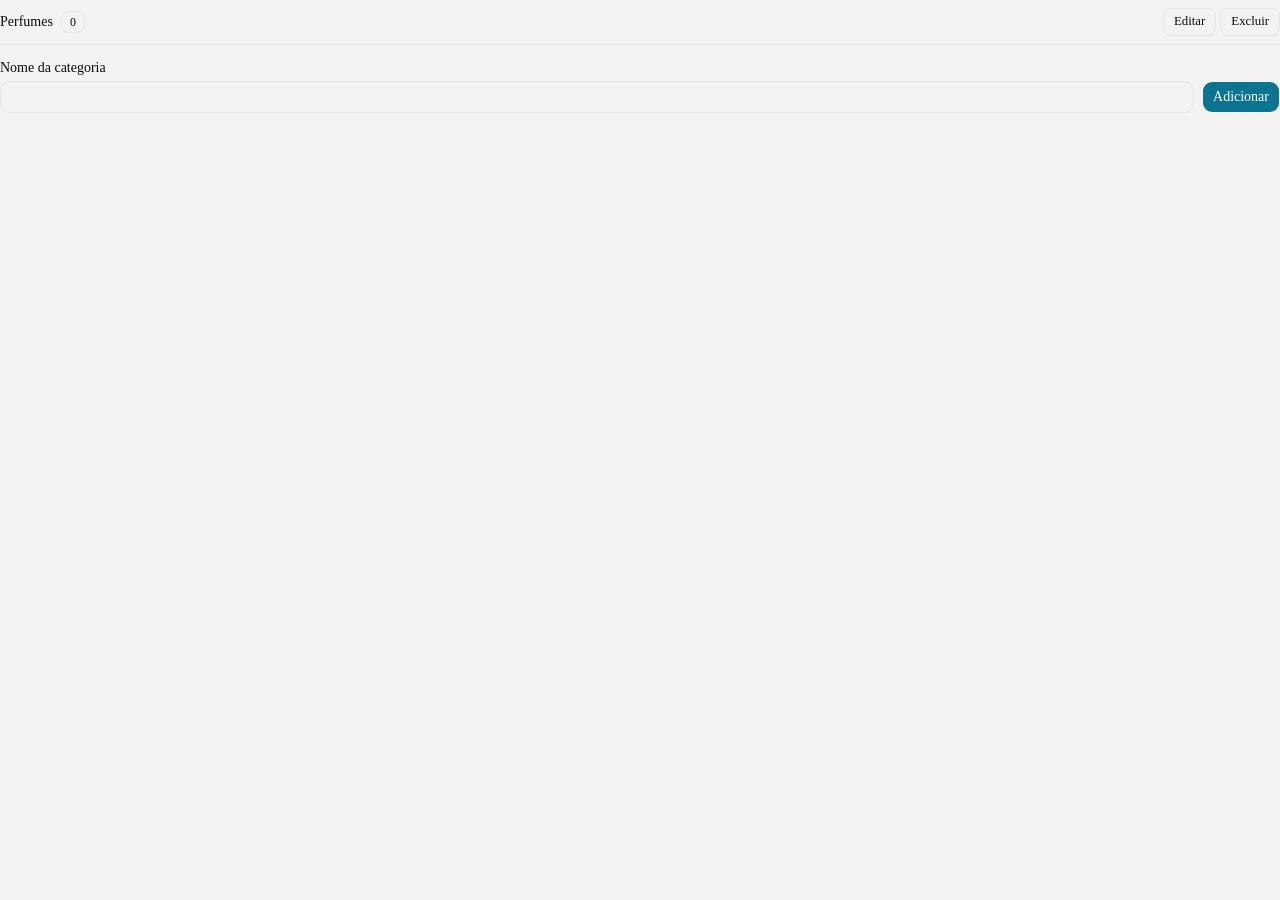
it: CategoryList › renames a category through the edit flow
Expected: the text "Perfumes" is shown, left=0, top=12, right=53, bottom=32
Click the button with aria-label "editar perfumes". click: (1190, 22)
box: left=1163, top=8, right=1216, bottom=36
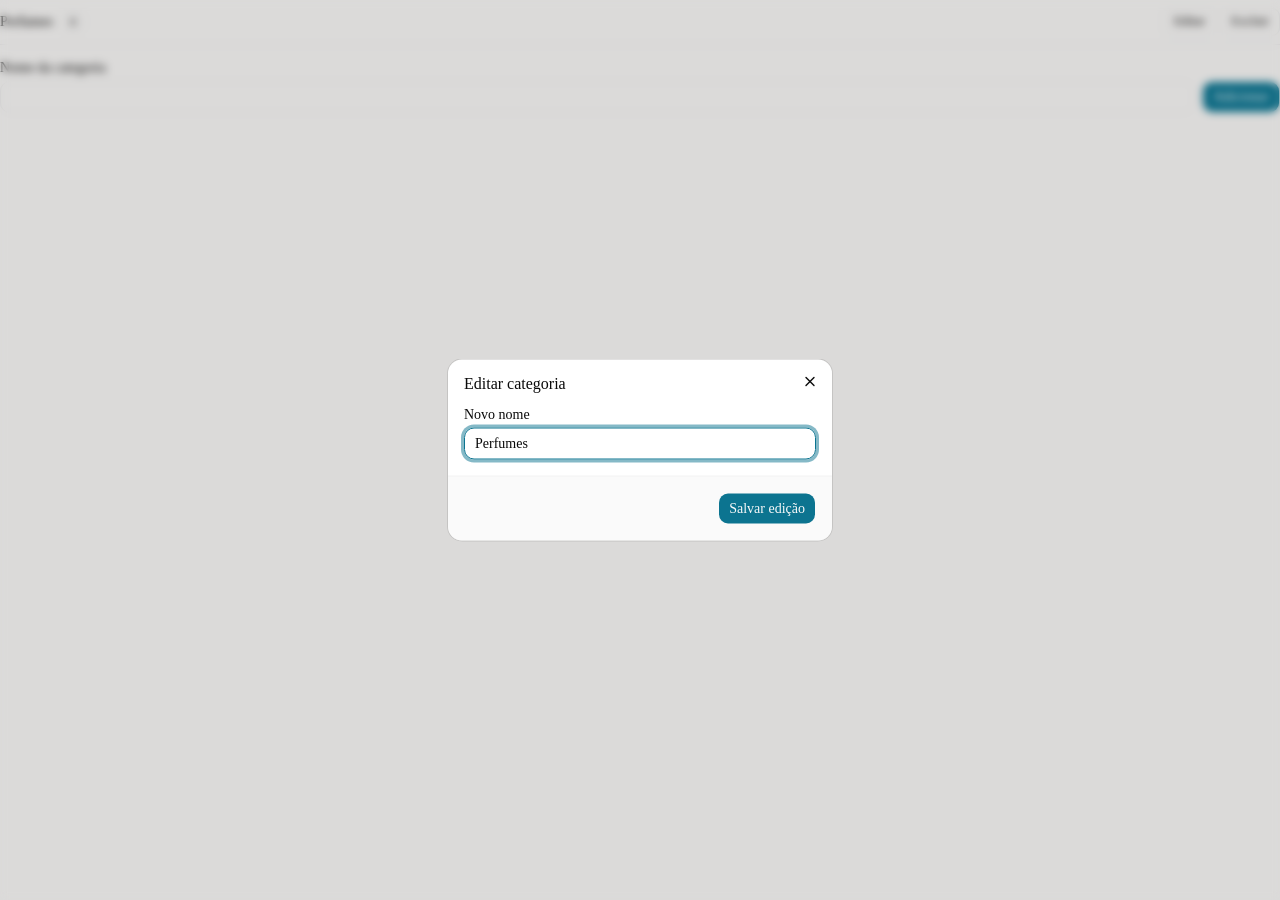
Replace the text in the field labelled "Novo nome" with "Cosméticos". click: (640, 444)
box: left=464, top=428, right=816, bottom=460
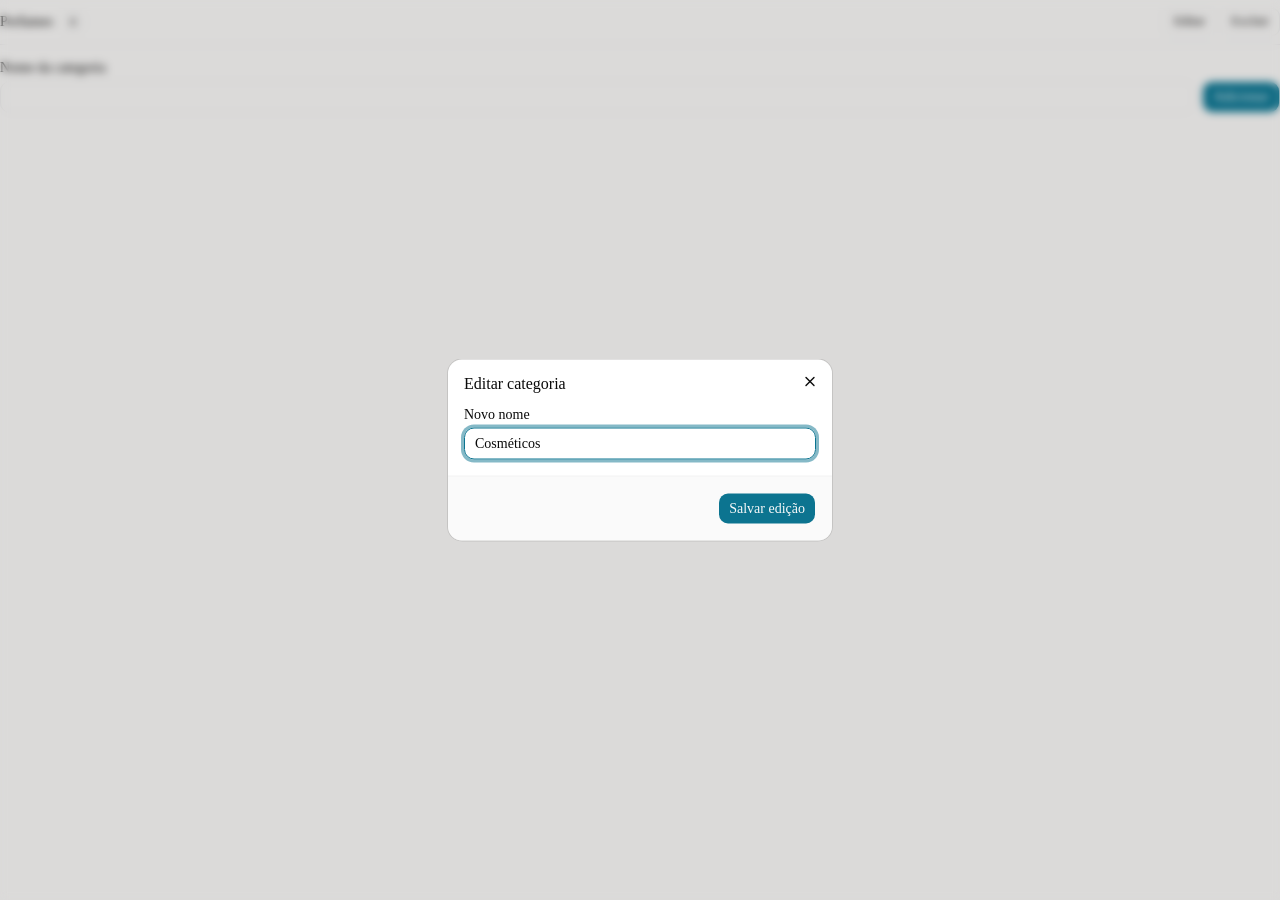
Click the button "Salvar edição". click: (767, 508)
box: left=718, top=492, right=816, bottom=524
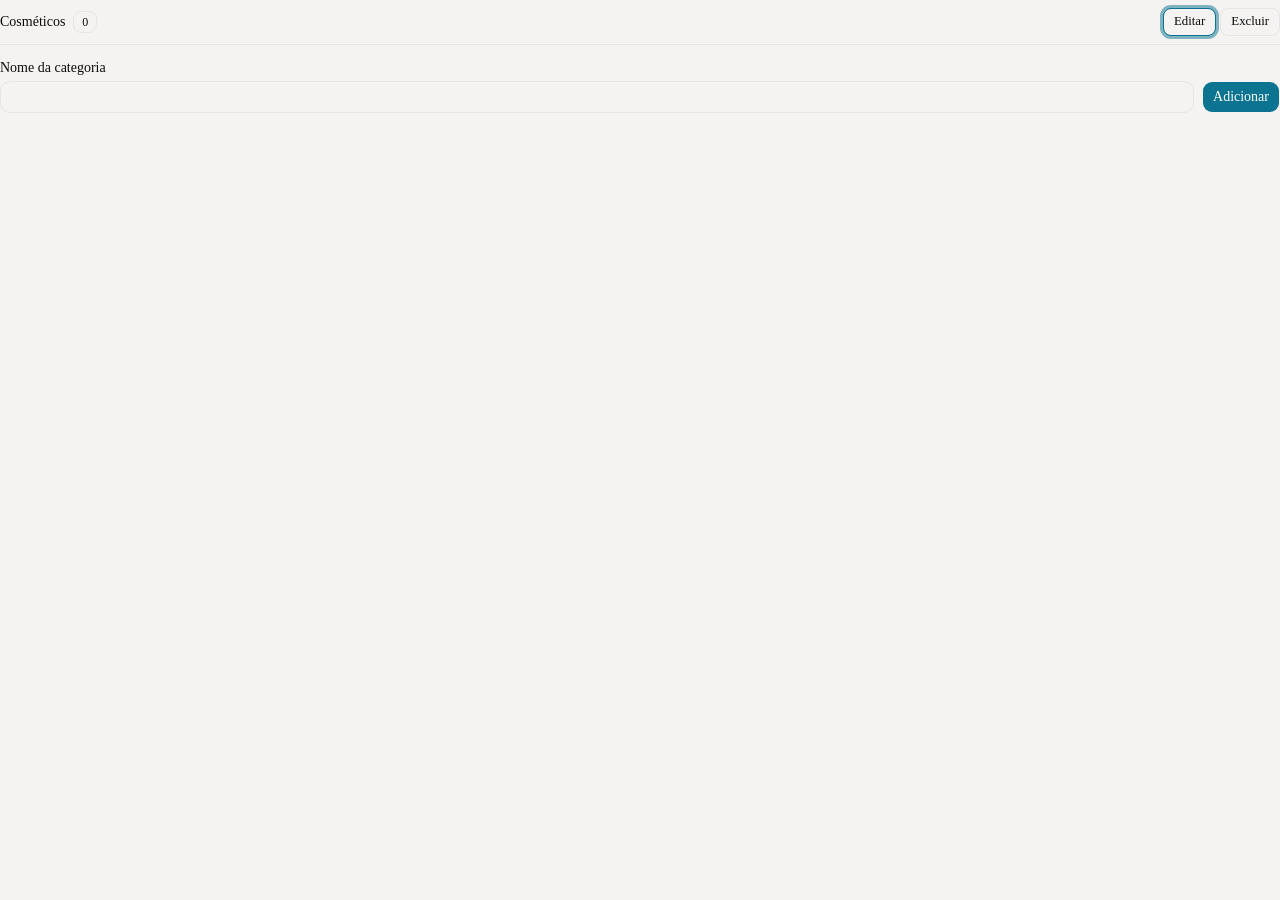
Expected: the text "Cosméticos" is shown, left=0, top=12, right=65, bottom=32
